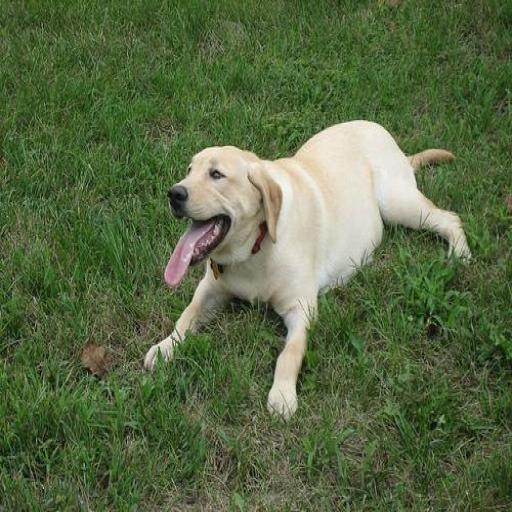dog_face: (163, 138, 282, 284)
